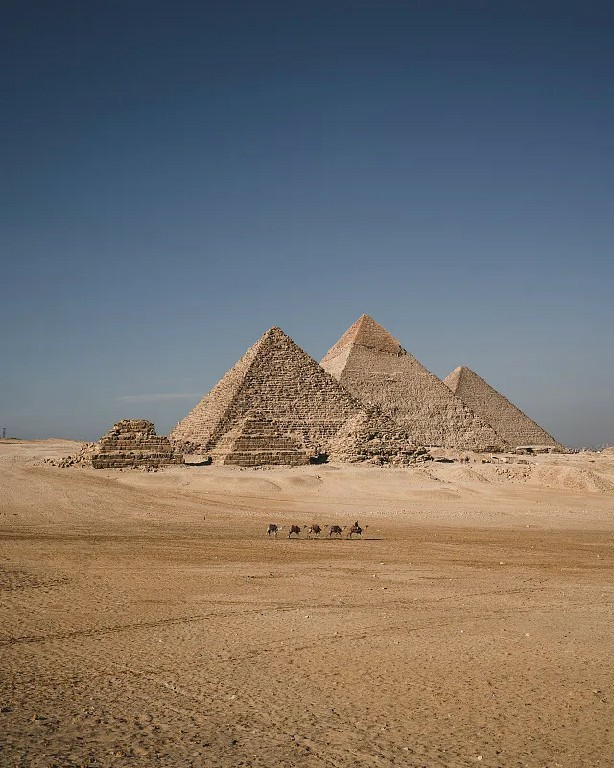Pyramid: (318, 314, 512, 452), (170, 326, 368, 457), (442, 367, 566, 452), (209, 411, 310, 468), (323, 409, 429, 461), (79, 419, 185, 470)
